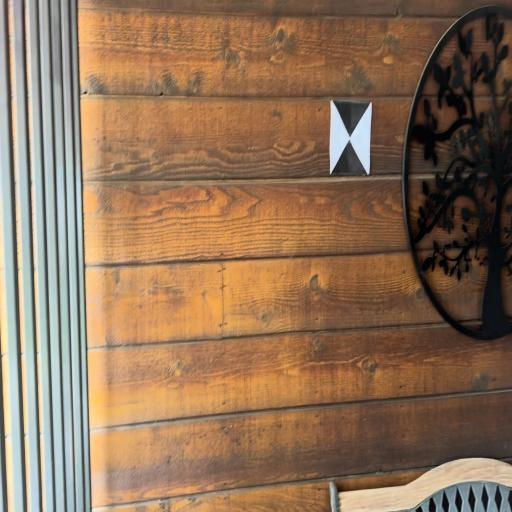target: (331, 100, 370, 175)
